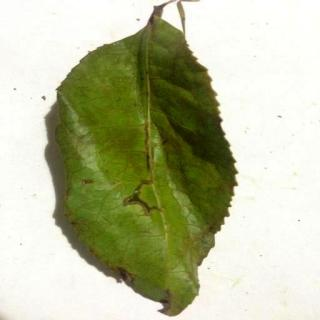Red Leaf Spot: (59, 9, 236, 315)
